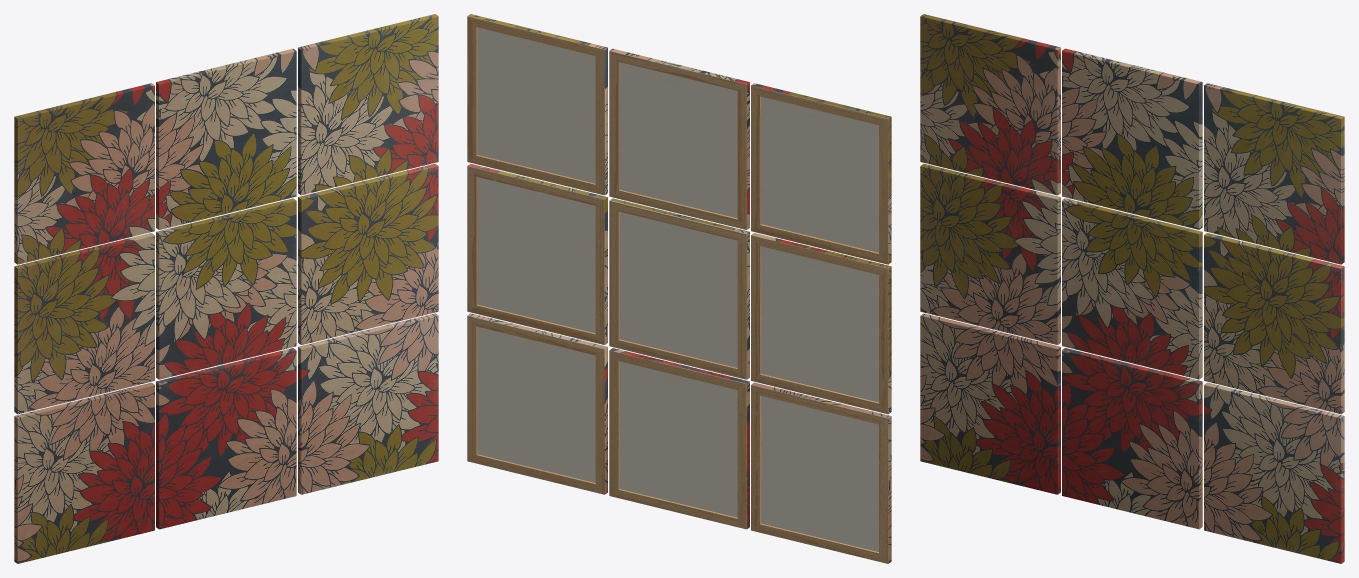
File: B073P5KYB2.glb
The picture shows the model from 3 angles, left to right: view 1: azimuth 30°, elevation 25°; view 2: azimuth 150°, elevation 25°; view 3: azimuth 330°, elevation 25°; orthographic projection.
Visible parts, largest first — view 1: RootNode; view 2: RootNode; view 3: RootNode.
Boxes of the visible parts, <box> form: RootNode: <box>14,14,438,563</box>; RootNode: <box>467,14,891,563</box>; RootNode: <box>920,14,1344,563</box>.
Size of the model in its own units: 0.9044 by 0.9134 by 0.0127.
Materials: 1 (1 with a texture image).
